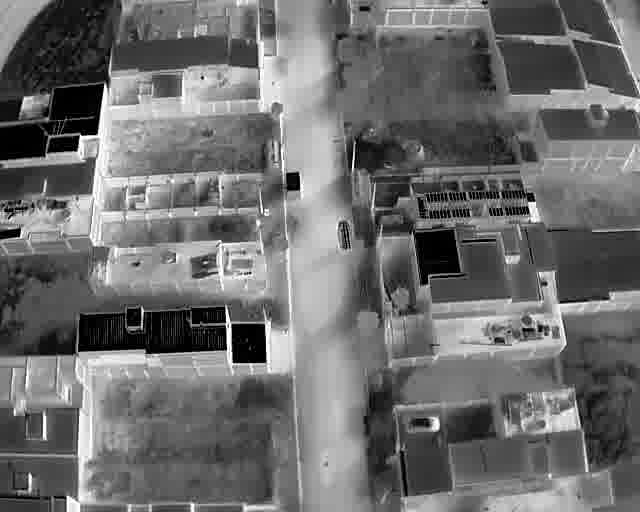car: (403, 416, 440, 434), (335, 215, 352, 251)
